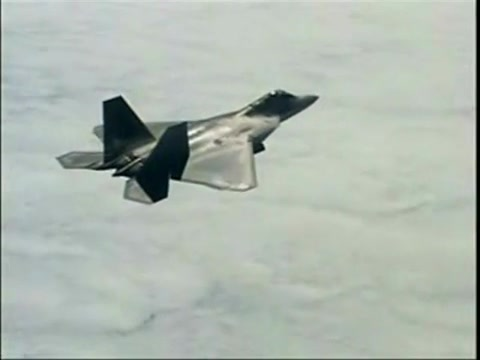aeroplane: (56, 90, 321, 207)
